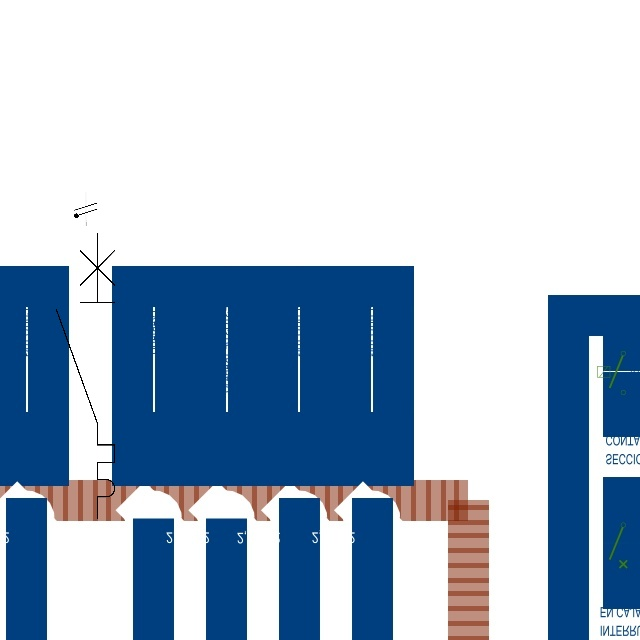interruptor_termomagnetico: (49, 225, 122, 525)
